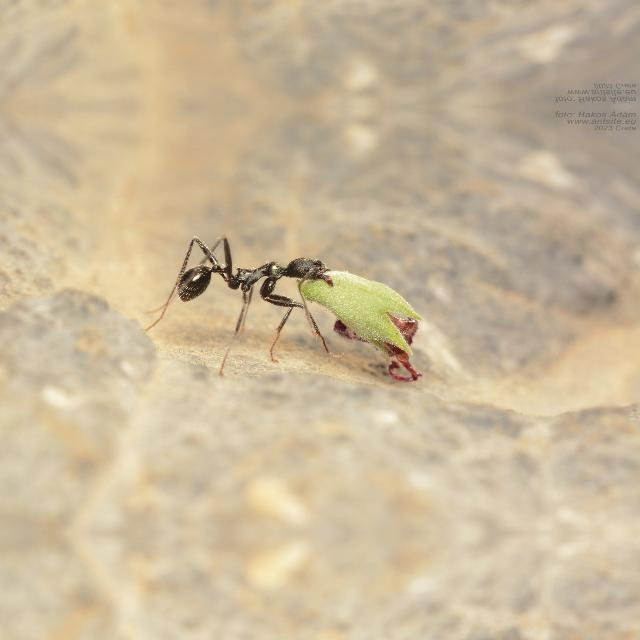Apheanogaster: (160, 239, 346, 317)
